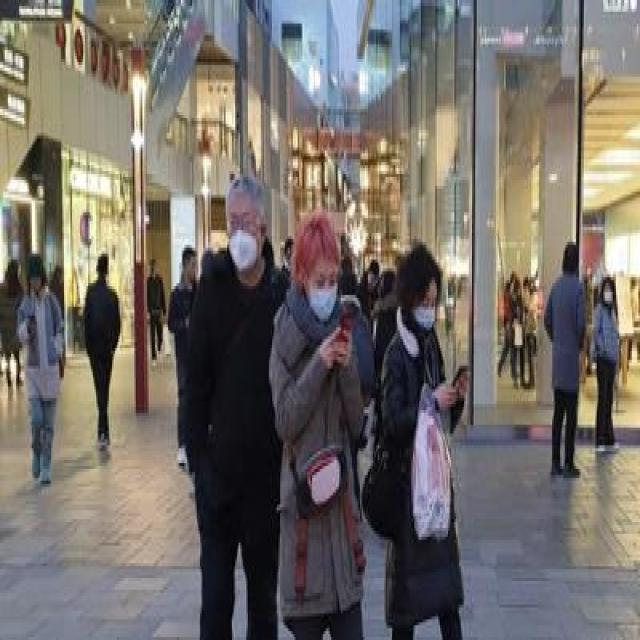with_mask: (227, 205, 262, 270), (307, 264, 339, 320), (414, 290, 438, 328), (601, 281, 614, 299), (150, 261, 156, 270)
without_mask: (366, 269, 379, 290), (185, 255, 198, 275), (28, 269, 41, 287)
